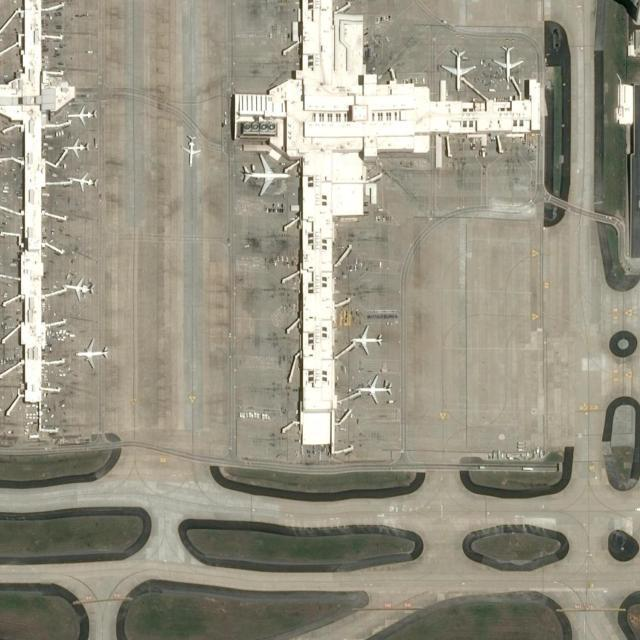Aircraft: (241, 152, 291, 197), (439, 46, 477, 92), (492, 41, 526, 87), (356, 373, 395, 407), (74, 337, 110, 369), (58, 274, 97, 302), (349, 324, 383, 354), (60, 133, 94, 158), (65, 102, 99, 126), (65, 170, 99, 194), (180, 133, 202, 165)
